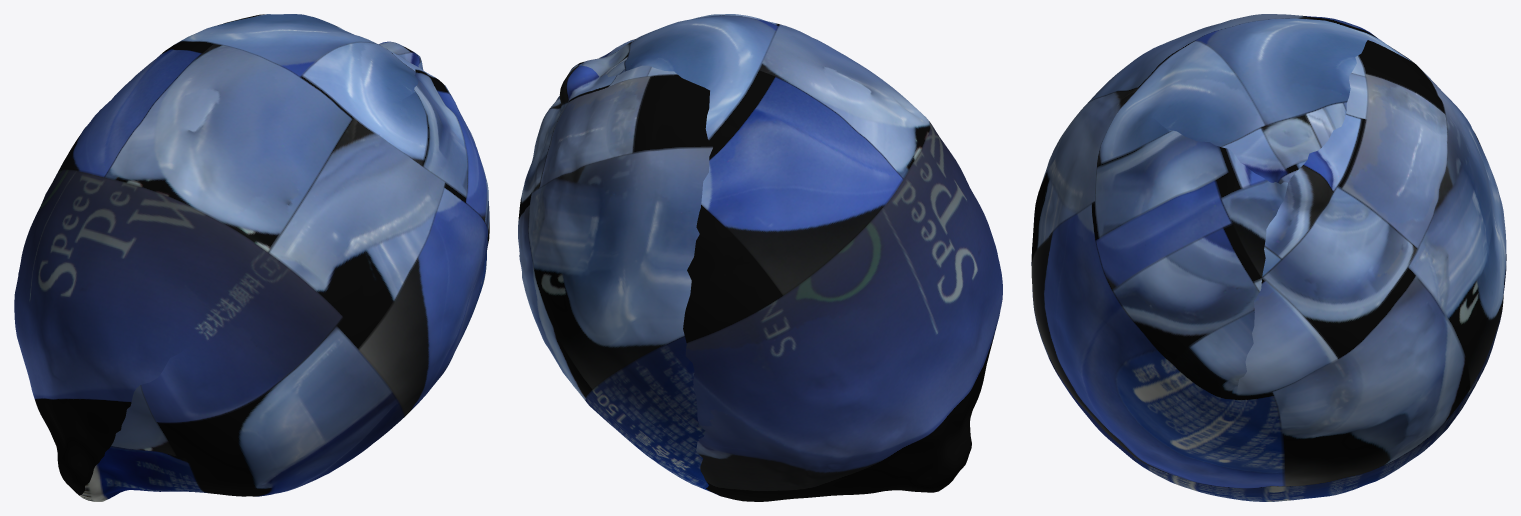
3 renders of one model, left to right at view 1: azimuth 30°, elevation 25°; view 2: azimuth 150°, elevation 25°; view 3: azimuth 270°, elevation 25°, orthographic. The views are drawn at different scales.
Size of the model in its own units: 0.0606 by 0.0593 by 0.053.
